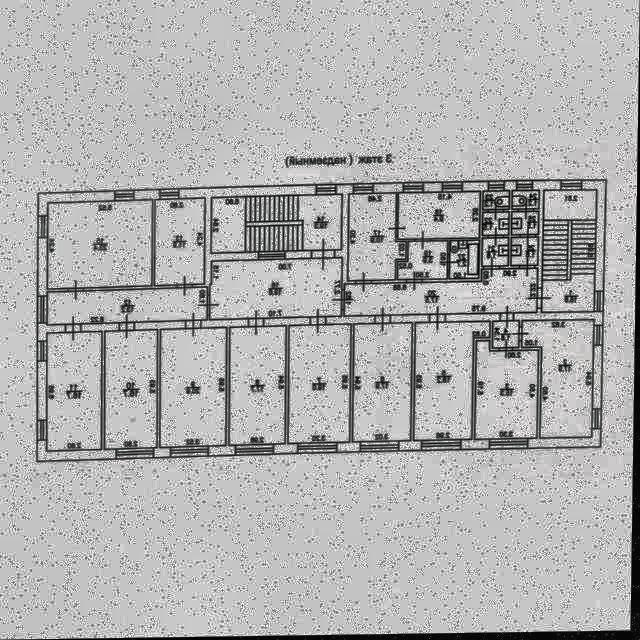room: (414, 322, 491, 443), (47, 201, 154, 288), (344, 270, 539, 317), (523, 322, 596, 440), (209, 259, 344, 320), (163, 328, 227, 449), (290, 324, 351, 445), (212, 197, 342, 252), (355, 323, 412, 444), (231, 326, 287, 446), (544, 192, 597, 316), (47, 333, 102, 451), (105, 332, 159, 450), (47, 287, 209, 326), (476, 342, 539, 442), (349, 194, 406, 282), (156, 199, 205, 286), (398, 193, 481, 240), (398, 242, 449, 281), (451, 242, 479, 280), (493, 322, 520, 350), (513, 238, 539, 267), (484, 239, 510, 267), (513, 214, 539, 236), (484, 214, 510, 236), (513, 192, 539, 210), (484, 193, 510, 211)
